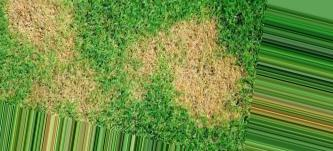patch: (168, 26, 233, 112), (53, 65, 100, 112), (7, 1, 57, 33), (127, 46, 149, 91), (31, 81, 46, 102)
